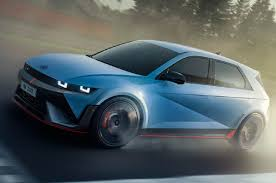Honda Ioniq: (12, 26, 276, 157)
